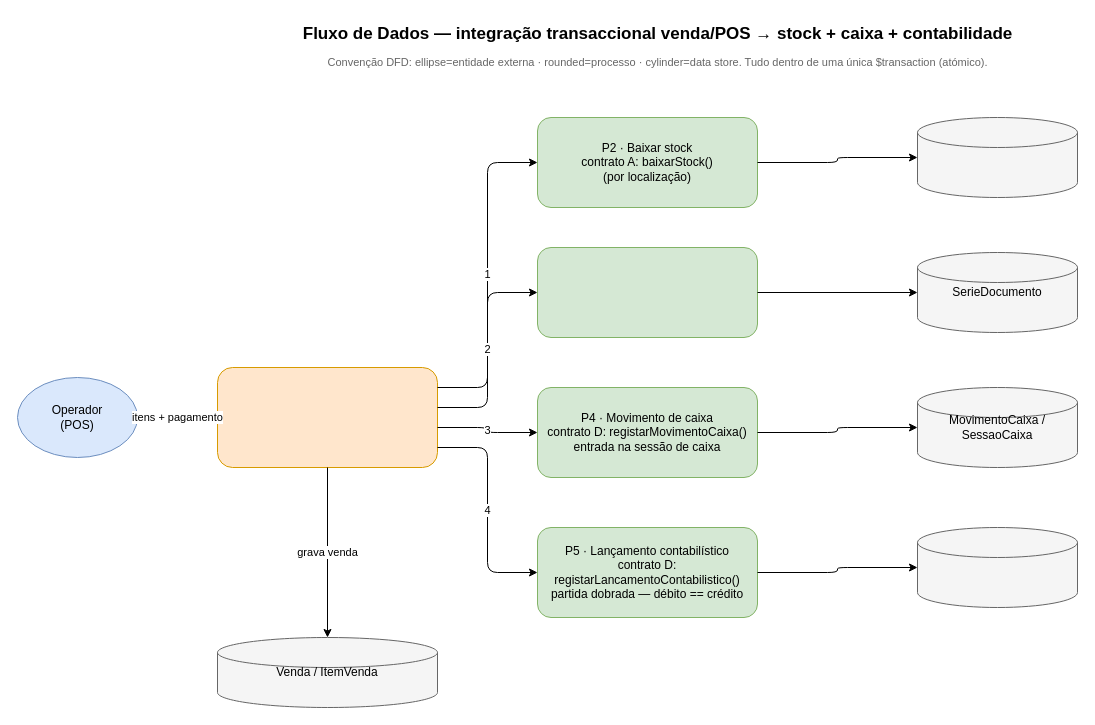
The diagram is 1095 pixels wide and 725 high, and some of its shapes have lost their labels. Each missing label, with the centre of its shape:
Lancamento / Partida (PGC-NIRF): the point at 997,567
MovimentoStock: the point at 997,157
P1 · Registar venda (venda.service / POS) valida linhas, total em Decimal: the point at 327,417
P3 · Numerar documento contrato D: proximoNumeroSerie() atómico, sem lacunas: the point at 647,292
